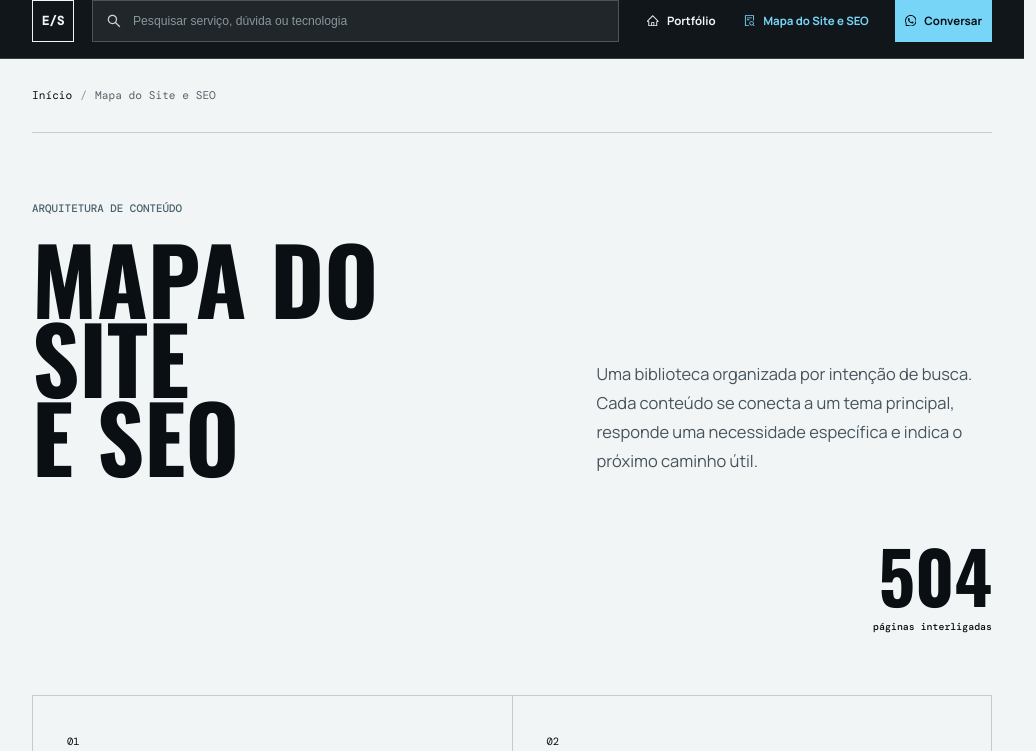
Mapa do Site e SEO › pesquisa conteúdos e permite limpar um resultado vazio
Type "termo que nao existe 987" into the search field named "pesquisar no mapa do site" at (368, 20), box x1=131 y1=12 x2=604 y2=28
(page scrolled)
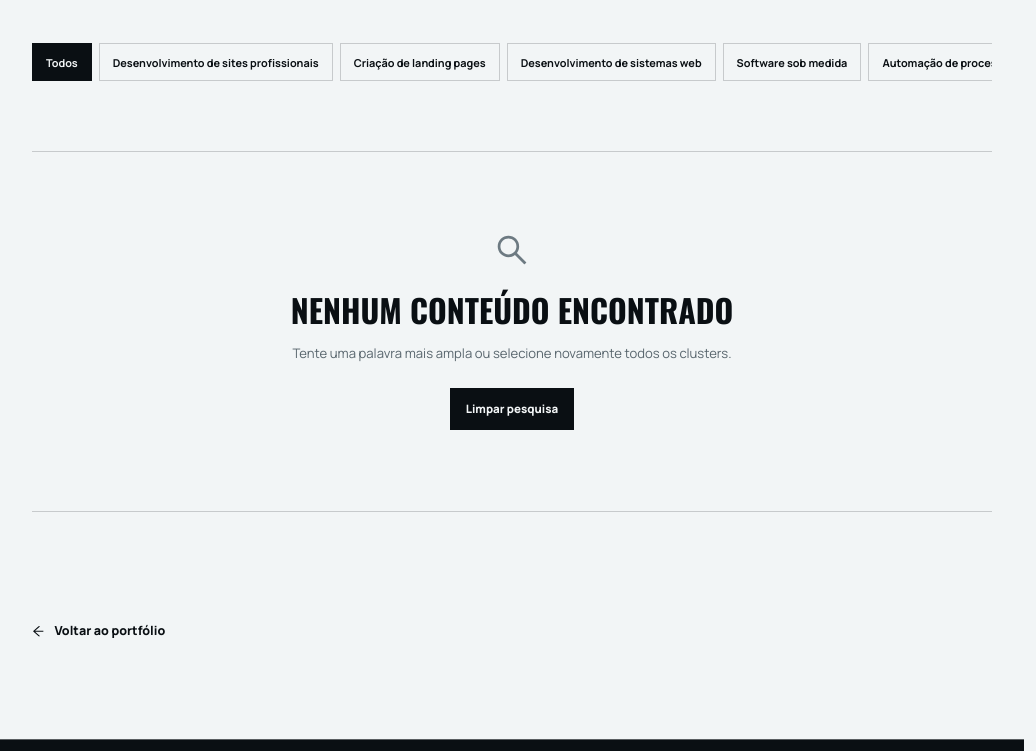
Now the heading "Nenhum conteúdo encontrado" is shown, box x1=291 y1=286 x2=733 y2=333
Click the button "Limpar pesquisa" at (512, 409), box x1=450 y1=388 x2=574 y2=430
(page scrolled)
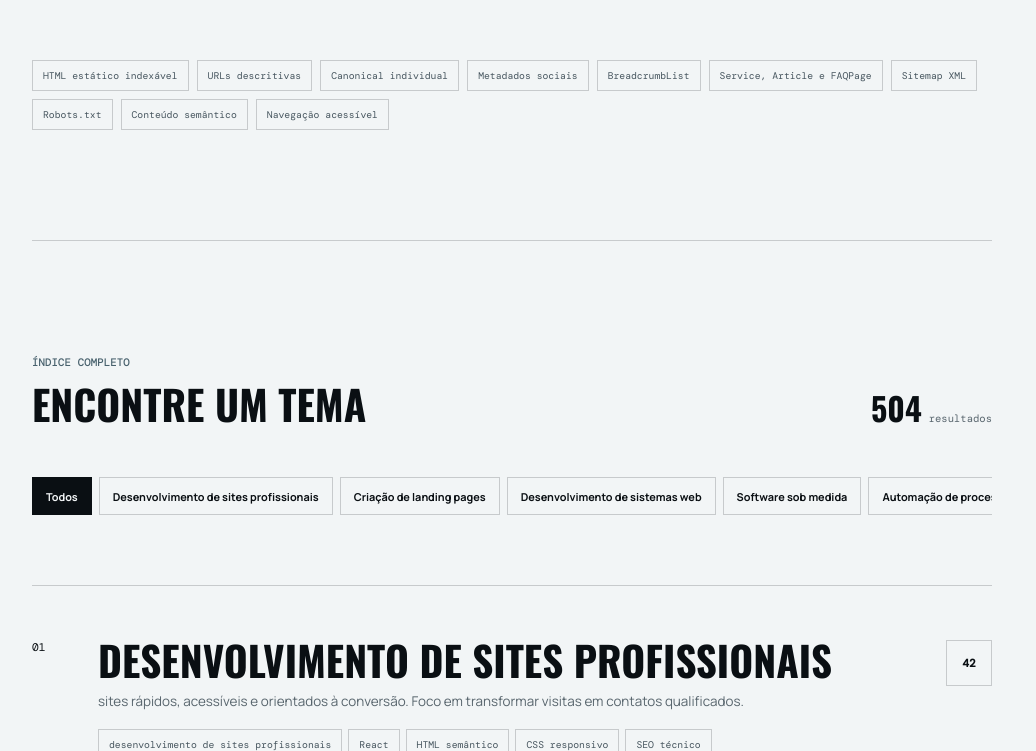
Now the text "504" is shown, box x1=871 y1=392 x2=922 y2=424
